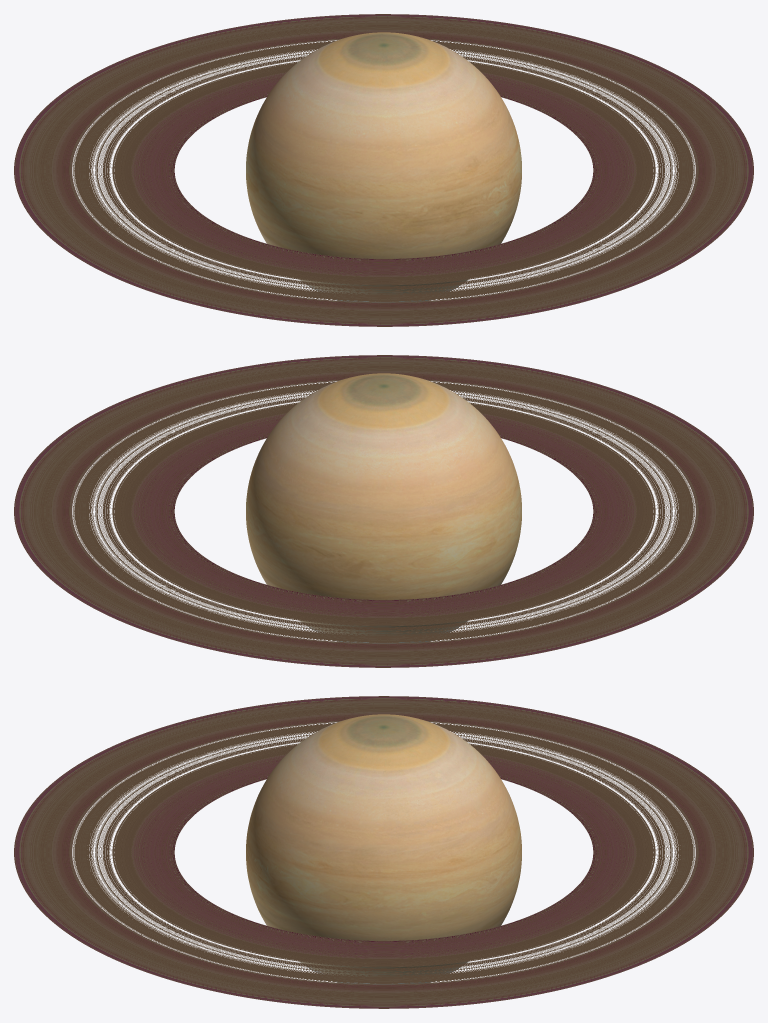
File: saturnplanet_free.glb
The picture shows the model from 3 angles, top to bottom: view 1: azimuth 30°, elevation 25°; view 2: azimuth 150°, elevation 25°; view 3: azimuth 270°, elevation 25°; orthographic projection.
Parts seen in each view (by area): view 1: node_id32_1, node_id30_0; view 2: node_id32_1, node_id30_0; view 3: node_id32_1, node_id30_0.
Part boxes in pixels (x1,y1,x2,y2): node_id32_1: (14, 14, 753, 326); node_id30_0: (246, 32, 521, 302); node_id32_1: (14, 355, 753, 667); node_id30_0: (246, 373, 521, 643); node_id32_1: (14, 696, 753, 1008); node_id30_0: (246, 714, 521, 984).
Size of the model in its own units: 11.5 by 4.29 by 11.5.
Materials: 2 (2 with a texture image).
